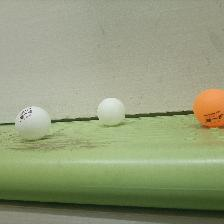WhiteBall: (15, 106, 50, 139), (96, 98, 124, 124)
YellowBall: (192, 88, 223, 126)
